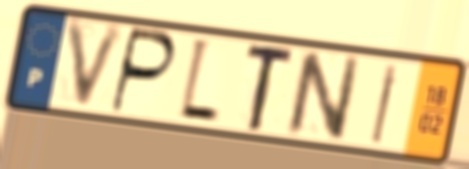I: (368, 61, 402, 147)
L: (175, 34, 223, 129)
N: (283, 49, 364, 144)
P: (107, 25, 180, 118)
T: (243, 43, 299, 134)
V: (63, 15, 131, 116)
